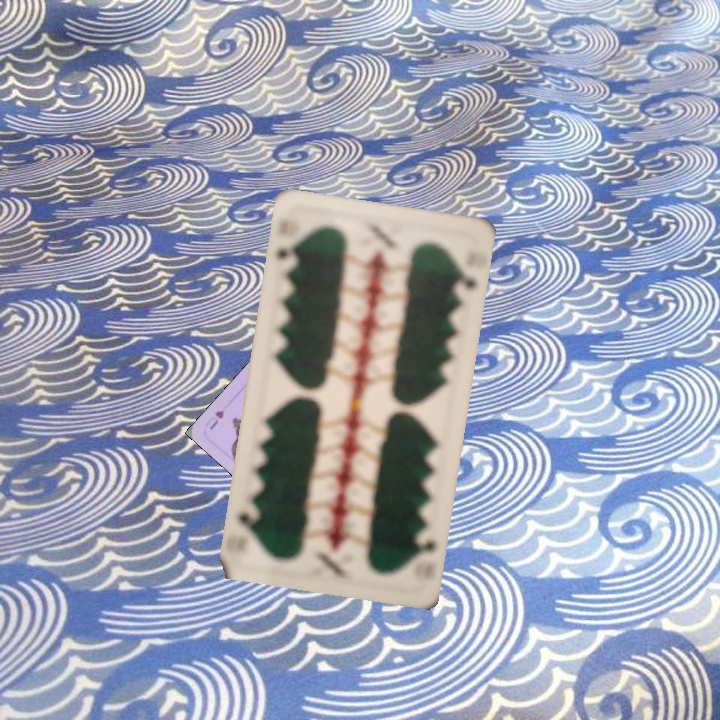G10: (411, 525, 439, 565), (273, 236, 300, 271)
